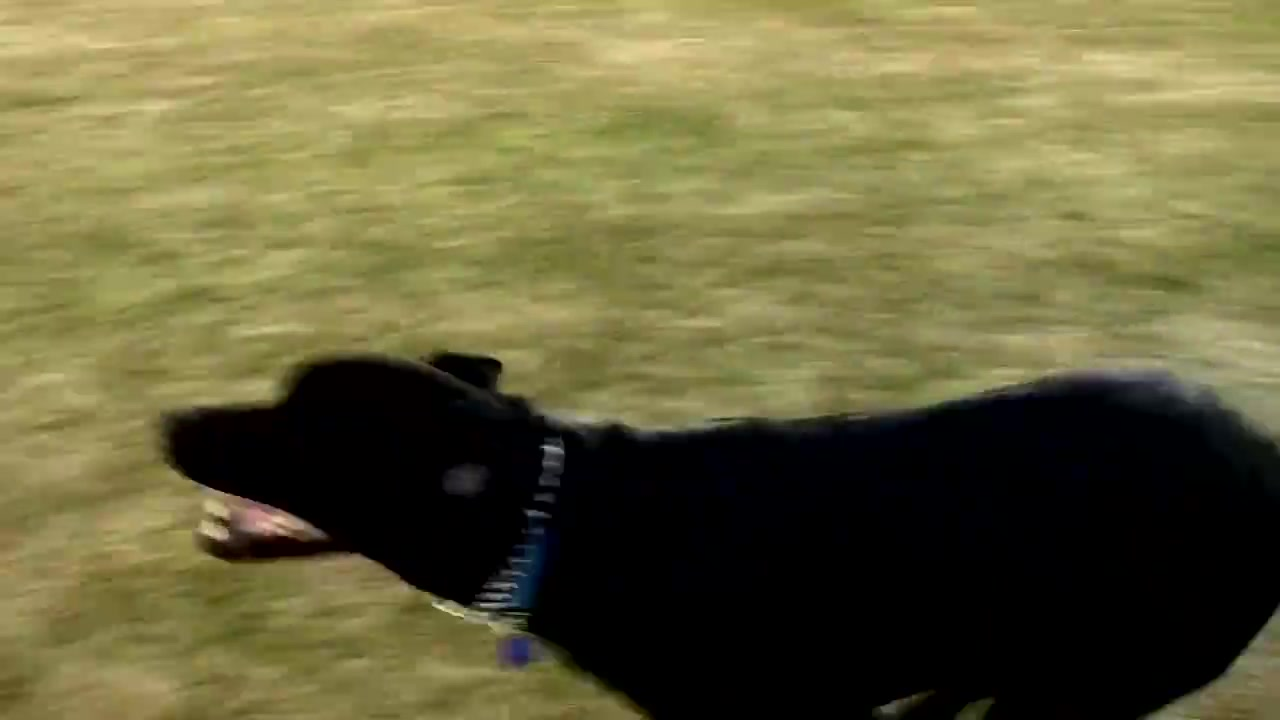dog: (150, 339, 1280, 720)
